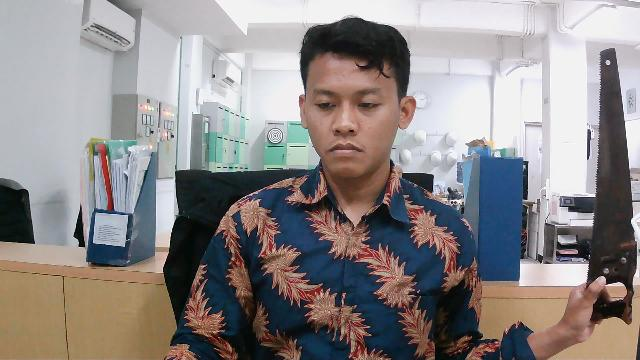gergaji_kayu: (579, 45, 639, 329)
